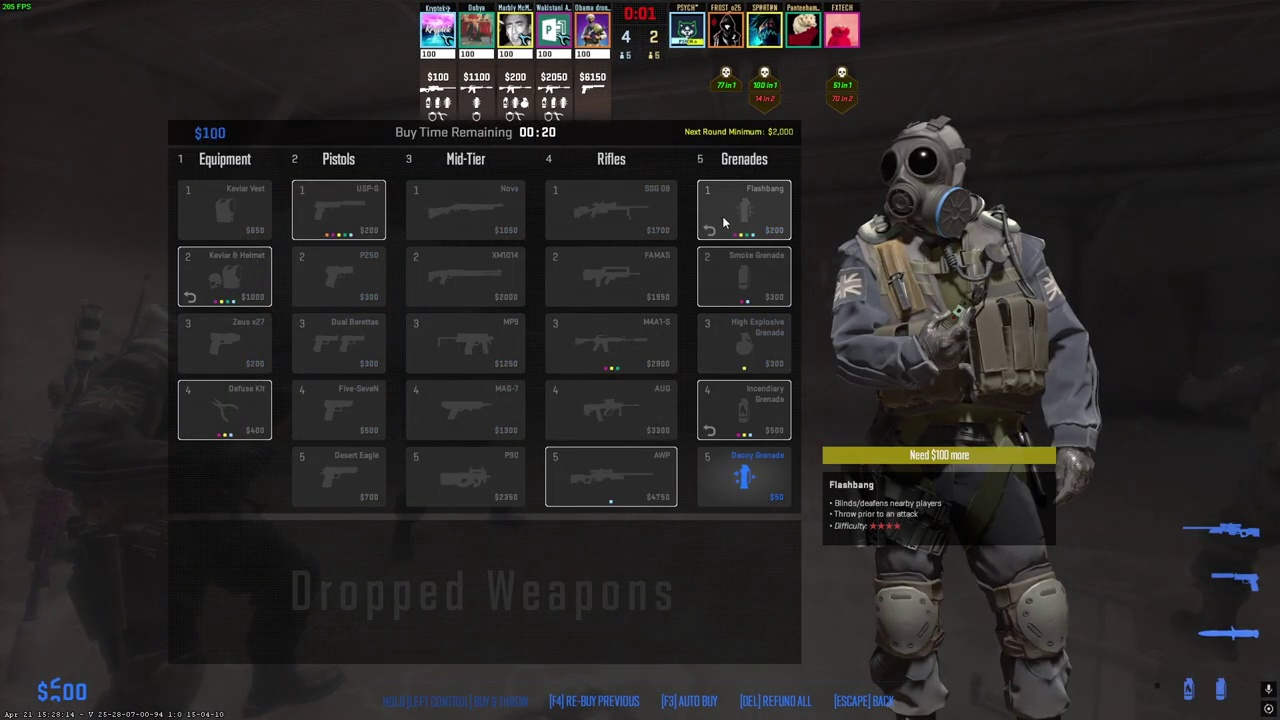CT: (856, 123, 1075, 720)
